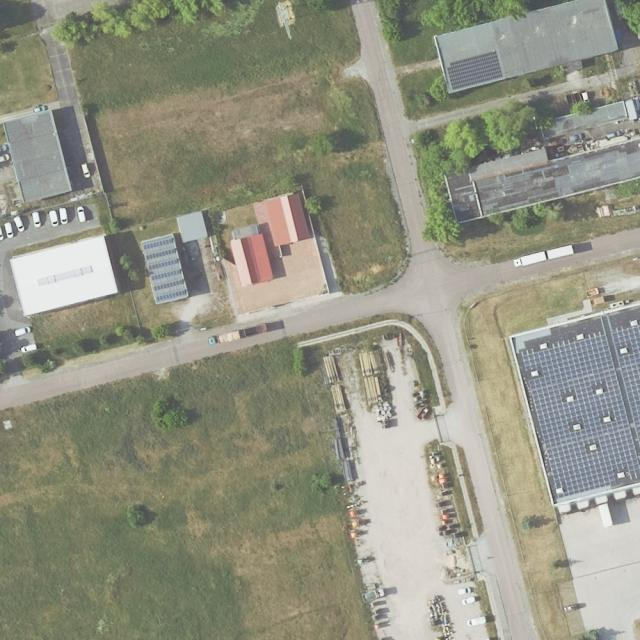PV: (521, 333, 640, 497), (611, 325, 640, 448), (447, 50, 503, 91), (155, 289, 186, 302), (142, 238, 173, 250), (150, 269, 181, 281), (153, 279, 184, 291), (146, 248, 176, 260), (148, 258, 178, 270)
